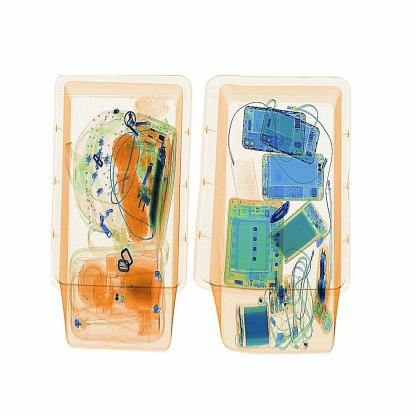knife: (262, 199, 294, 233)
